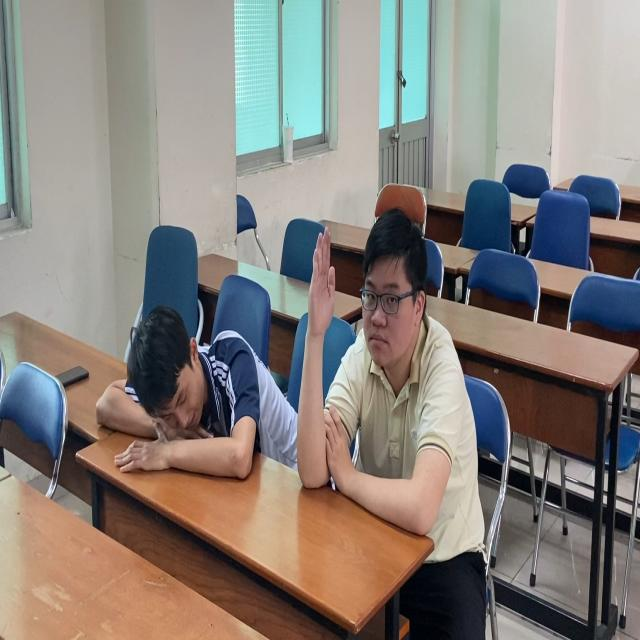raise_hand: (297, 213, 453, 543)
sleep: (85, 301, 292, 478)
